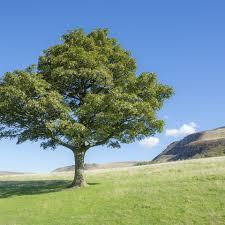tree: (1, 26, 175, 188)
